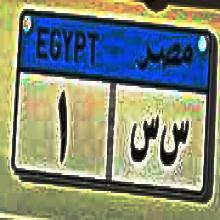1: (58, 91, 69, 165)
seen: (128, 114, 159, 175), (160, 115, 190, 173)
